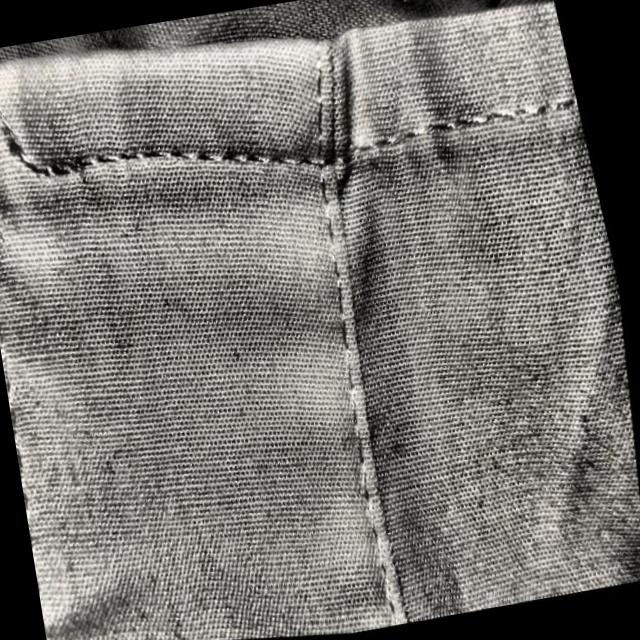Thread: (0, 46, 31, 165)
seam: (292, 36, 428, 628), (27, 72, 581, 212), (0, 73, 60, 600)
